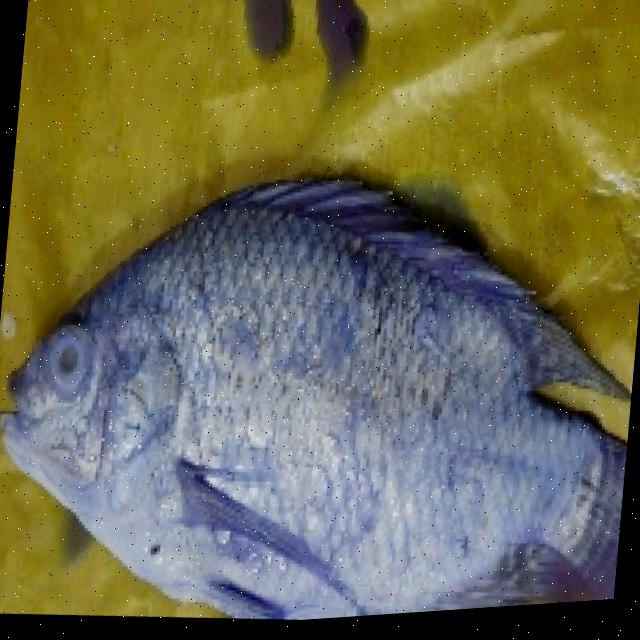Non-Fresh: (0, 140, 640, 640)
